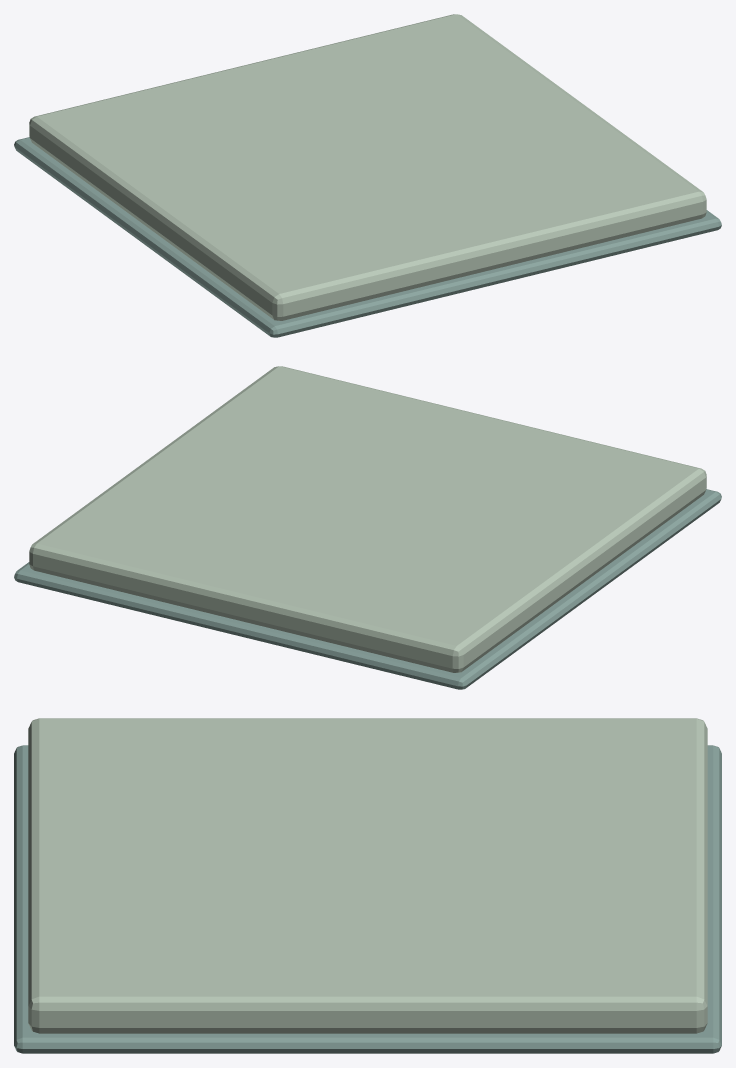
File: wormhole-board-base.glb
3 views of the same model, one above another, from view 1: azimuth 30°, elevation 25°; view 2: azimuth 150°, elevation 25°; view 3: azimuth 270°, elevation 25° (orthographic). The views are drawn at different scales.
Visible parts, largest first — view 1: mesh_wormhole_board_base_rim, mesh_wormhole_board_base_dark; view 2: mesh_wormhole_board_base_rim, mesh_wormhole_board_base_dark; view 3: mesh_wormhole_board_base_rim, mesh_wormhole_board_base_dark.
Boxes of the visible parts, x1,y1,x2,y2 form: mesh_wormhole_board_base_rim: [29, 14, 706, 320]; mesh_wormhole_board_base_dark: [14, 137, 721, 337]; mesh_wormhole_board_base_rim: [29, 366, 706, 672]; mesh_wormhole_board_base_dark: [14, 489, 721, 689]; mesh_wormhole_board_base_rim: [28, 718, 707, 1033]; mesh_wormhole_board_base_dark: [14, 745, 721, 1053].
Size of the model in its own units: 4.9 by 0.38 by 4.9.
